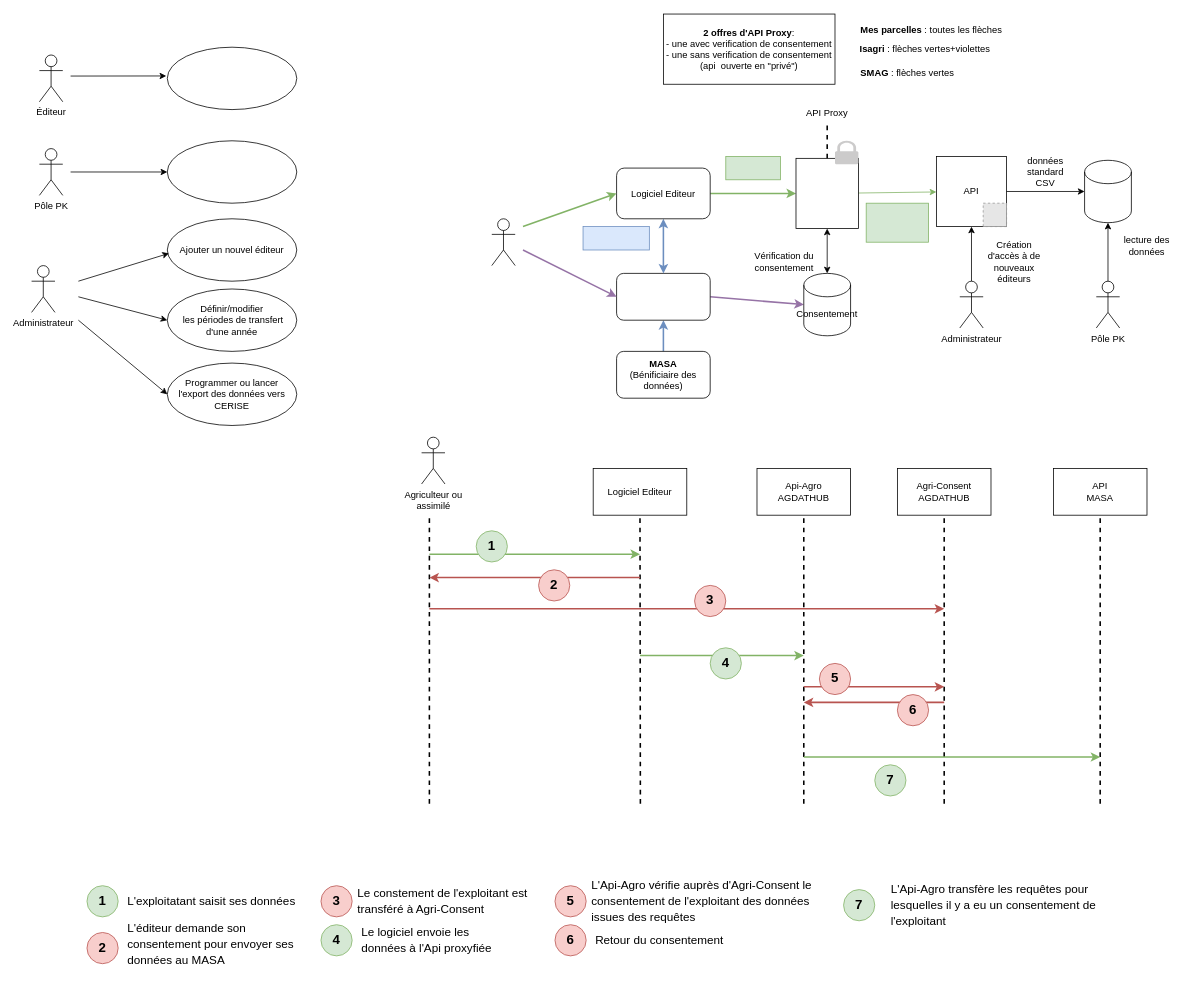
Image size: 1192x981. Some labels were removed from this diagram. Grey dashed boxes stand in for pictures. The centre of each missing label's shape, as x and y in pixels:
Agri-Consent AGDATAHUB: point 663,296
Agriculteur: point 503,242
Api-Agro AGDATAHUB: point 826,193
CERISE: point 1107,191
Demande de consentement: point 615,238
données phyto: point 752,168
données phyto consenties: point 897,222
Envoyer les données: point 232,78
Lire et traiter les données: point 232,171
